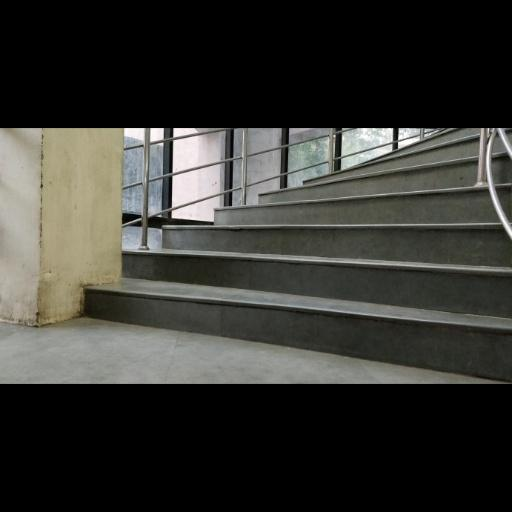stairs: (85, 128, 511, 380)
